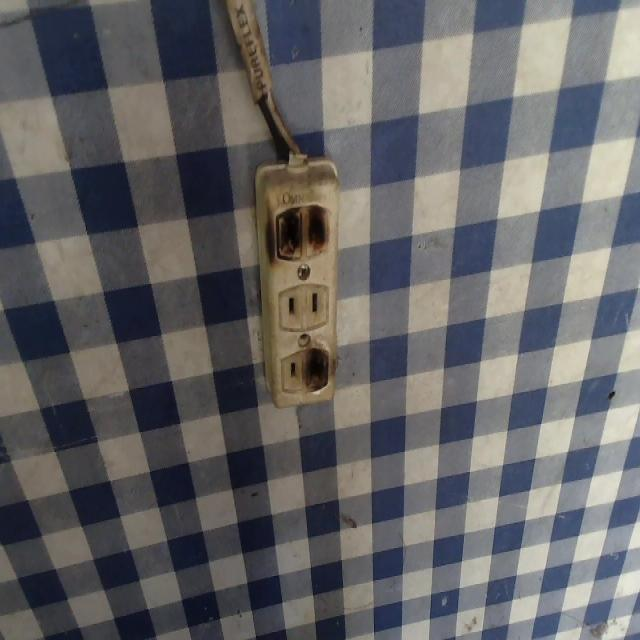-: (262, 199, 333, 268), (298, 341, 333, 396)
